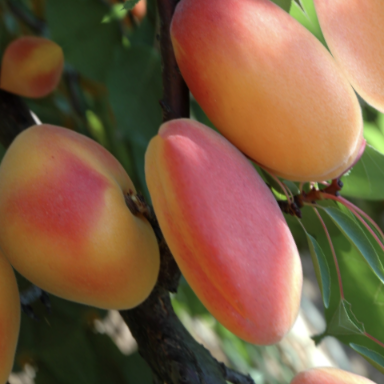mango: (99, 85, 354, 372), (0, 74, 212, 360), (133, 0, 384, 234)
